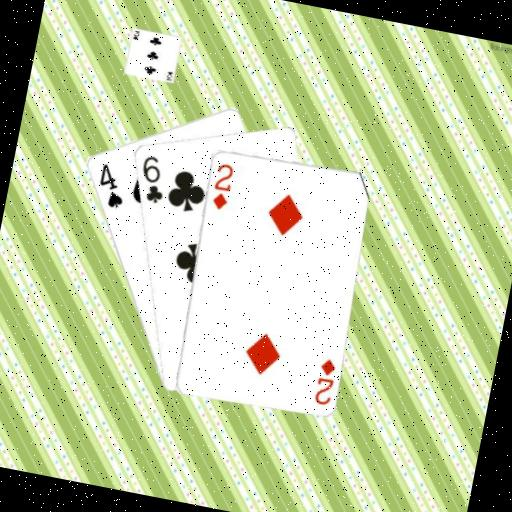2D: (310, 354, 340, 408), (206, 159, 236, 212)
4S: (92, 159, 132, 211)
6C: (132, 151, 172, 206)
